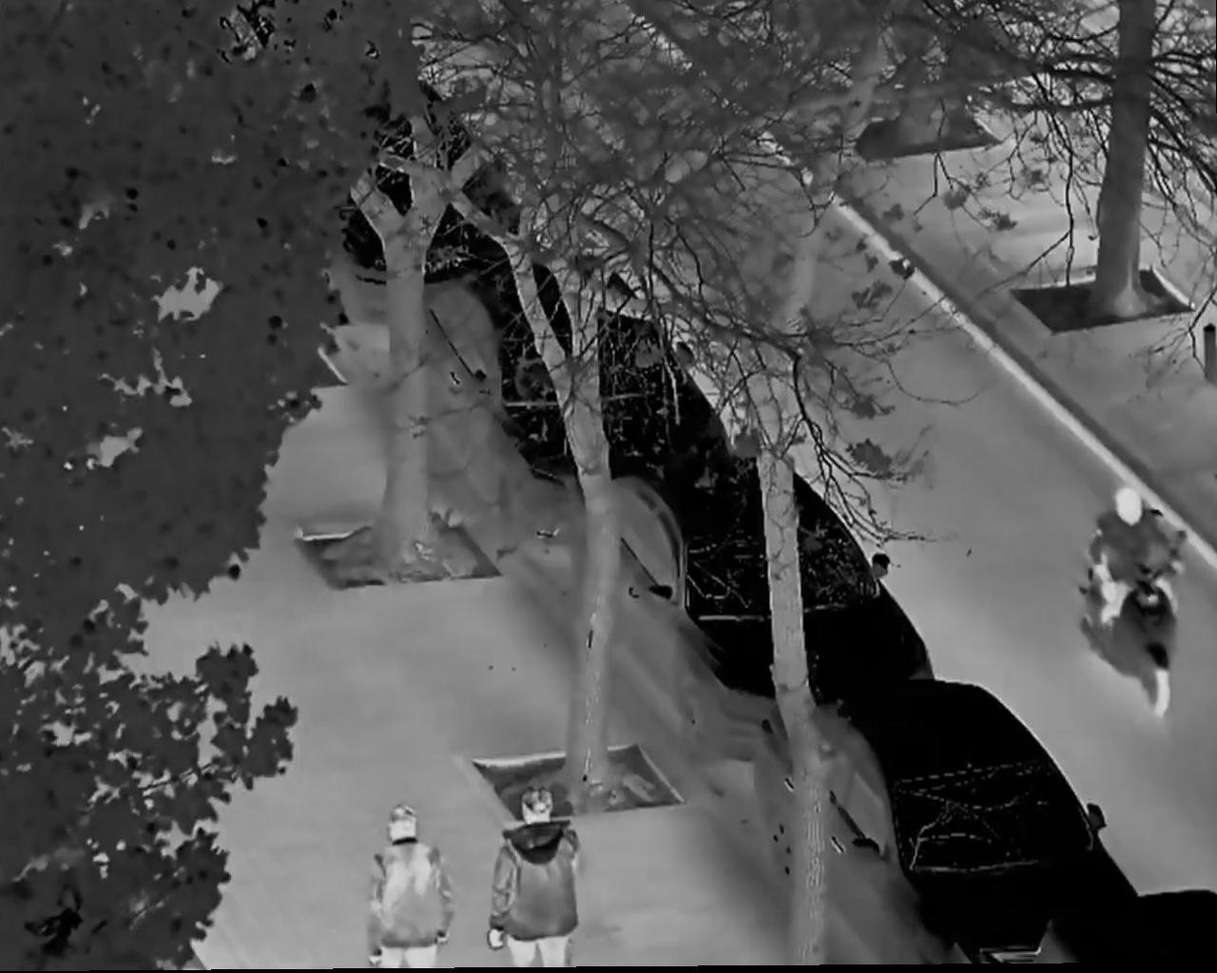person: (485, 791, 588, 973), (1082, 487, 1185, 667), (362, 797, 453, 973)
